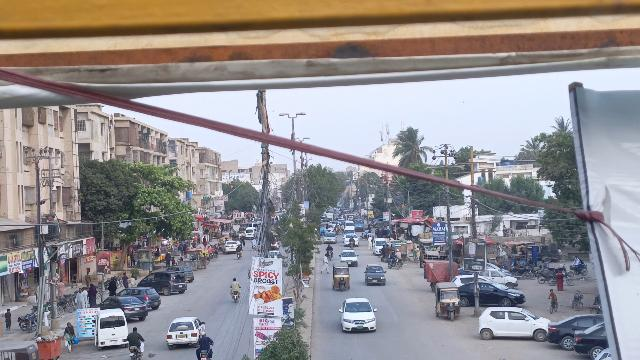Bike: (128, 345, 140, 359), (196, 350, 211, 360), (232, 289, 239, 304)
Car: (477, 305, 550, 344), (546, 311, 603, 351), (456, 279, 528, 307), (338, 297, 380, 334), (166, 315, 205, 349), (138, 270, 188, 296), (102, 295, 148, 321), (118, 285, 161, 309), (363, 263, 389, 287), (339, 249, 361, 268)
Person: (61, 319, 80, 351), (73, 287, 87, 311), (197, 331, 213, 352), (127, 325, 141, 347), (2, 306, 14, 331), (88, 281, 98, 307), (56, 277, 66, 299), (321, 253, 330, 276), (107, 277, 117, 296), (230, 276, 241, 291), (122, 270, 128, 289)
Rickshaw: (434, 281, 462, 320), (331, 261, 351, 291)
Van: (93, 308, 130, 351)
